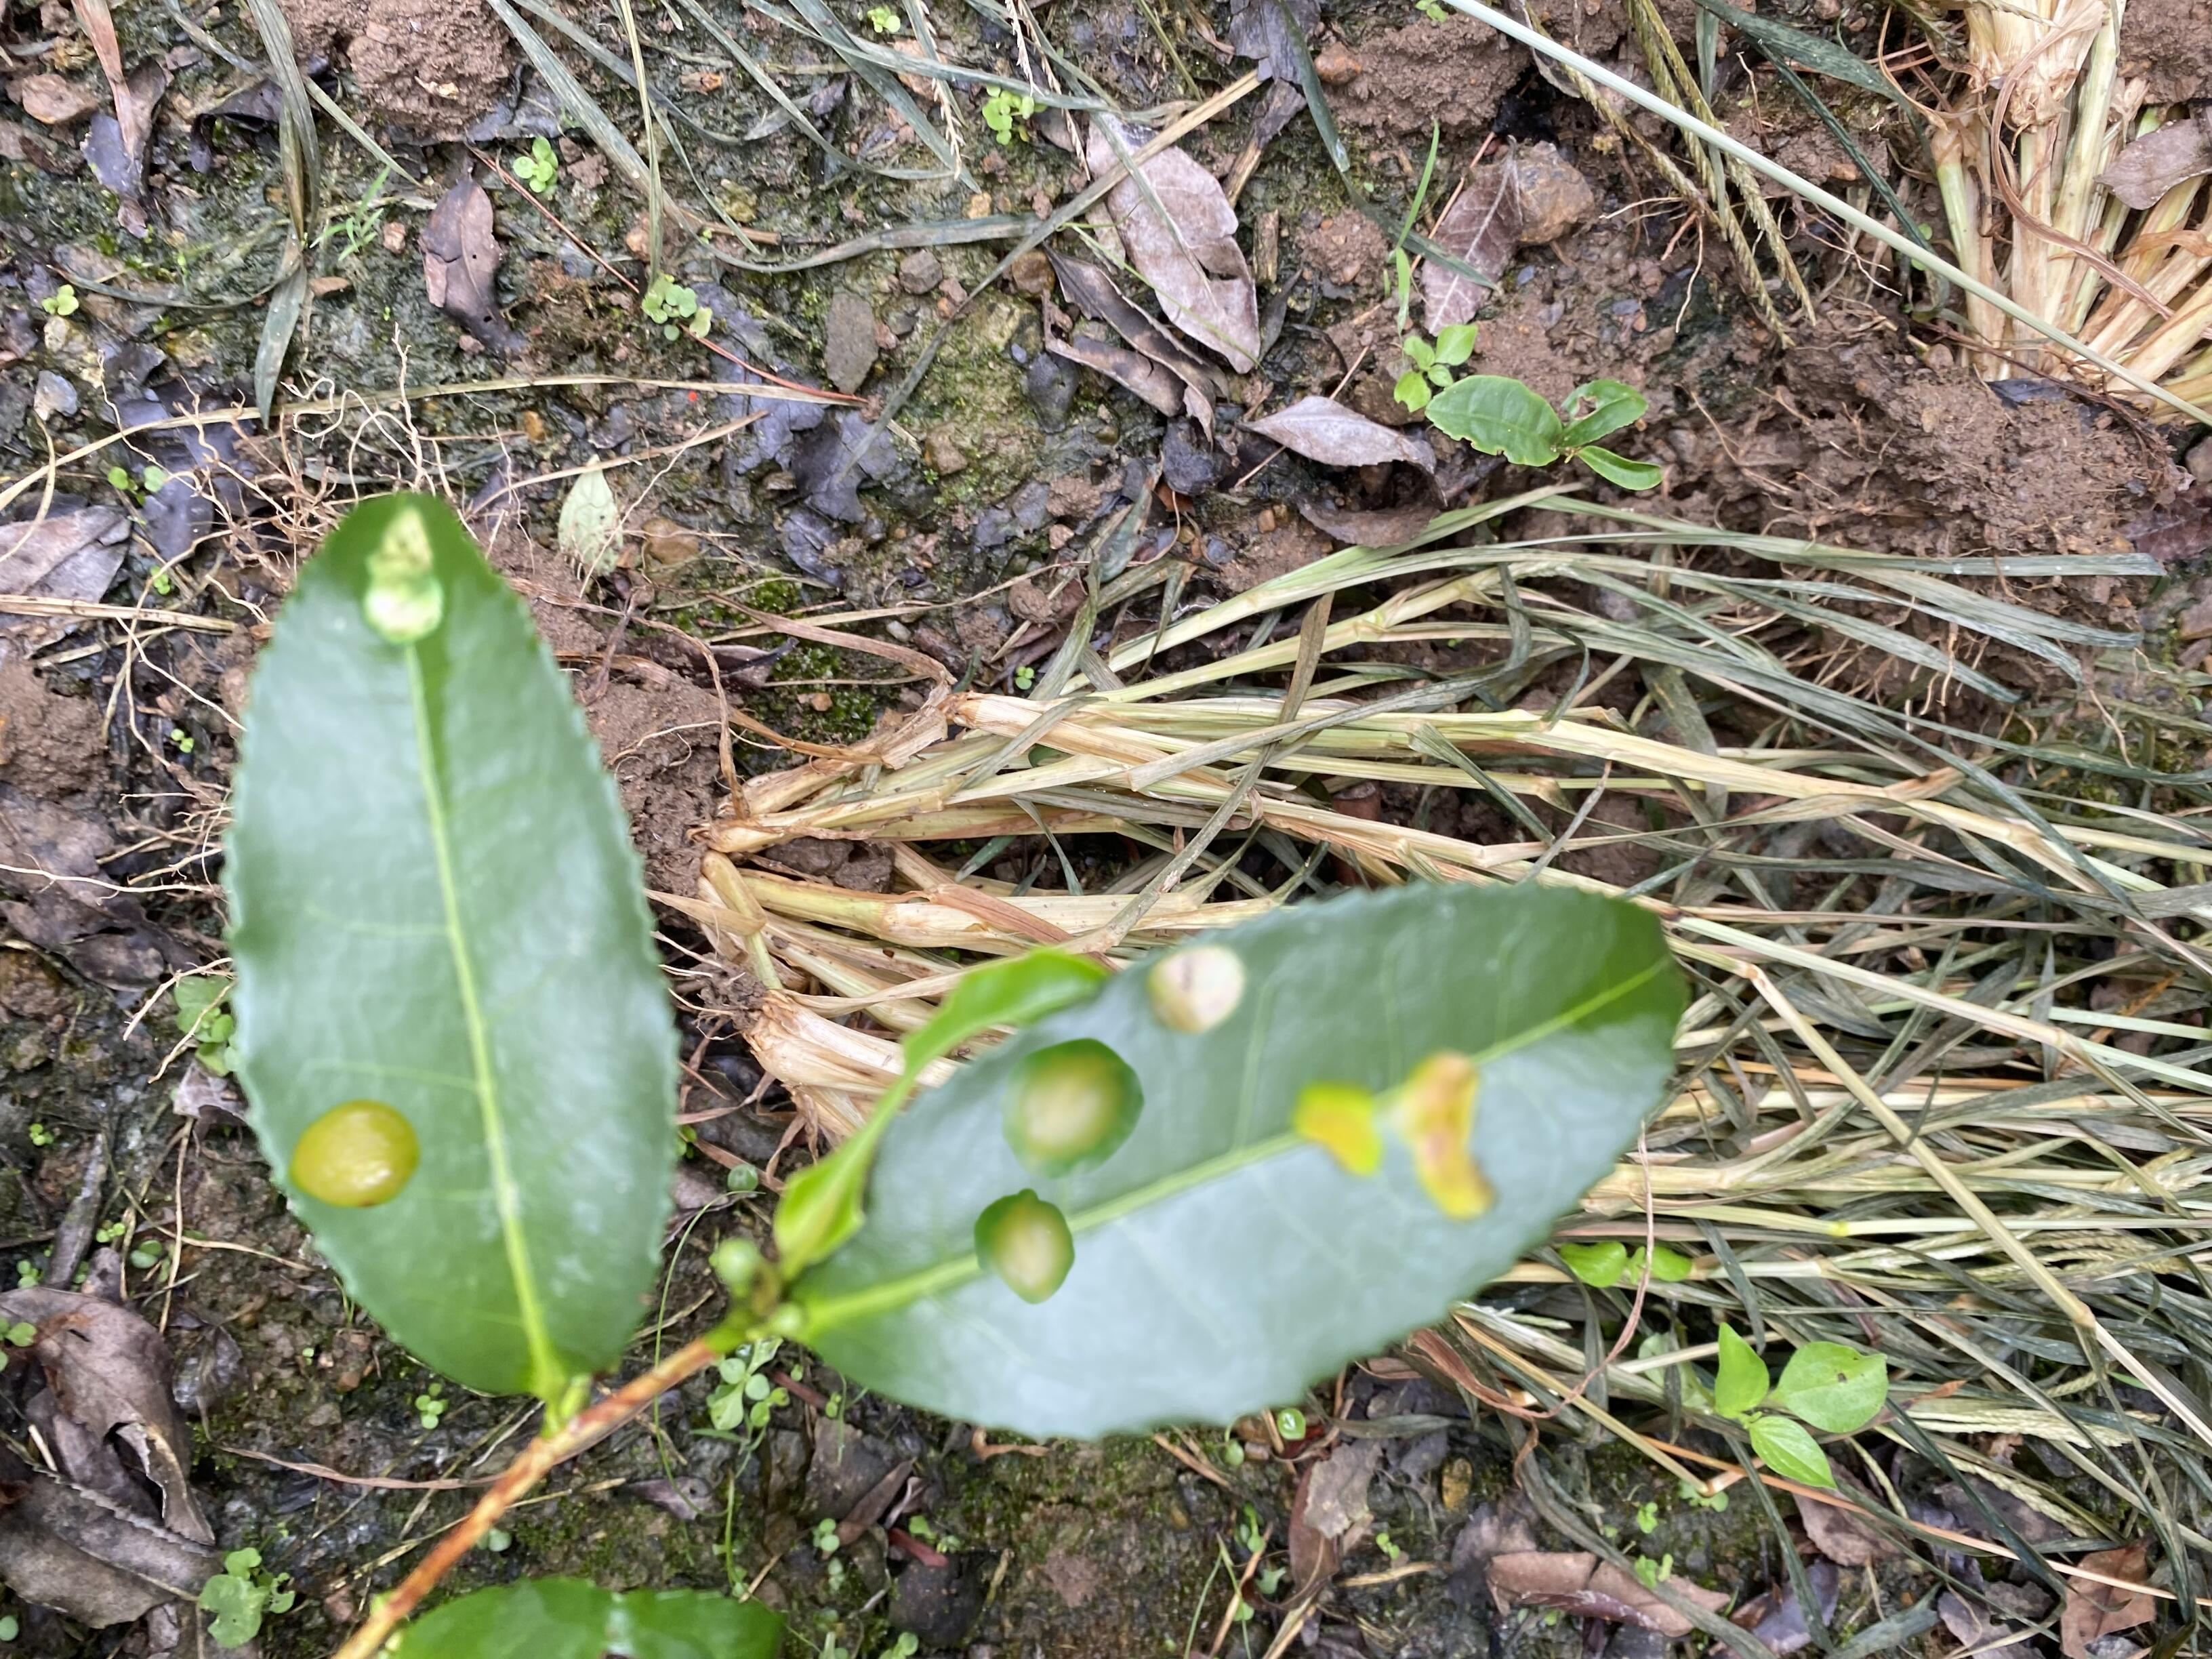chabing_high: (787, 882, 1693, 1439), (225, 491, 681, 1396)
chihuo_high: (775, 951, 1109, 1270)
